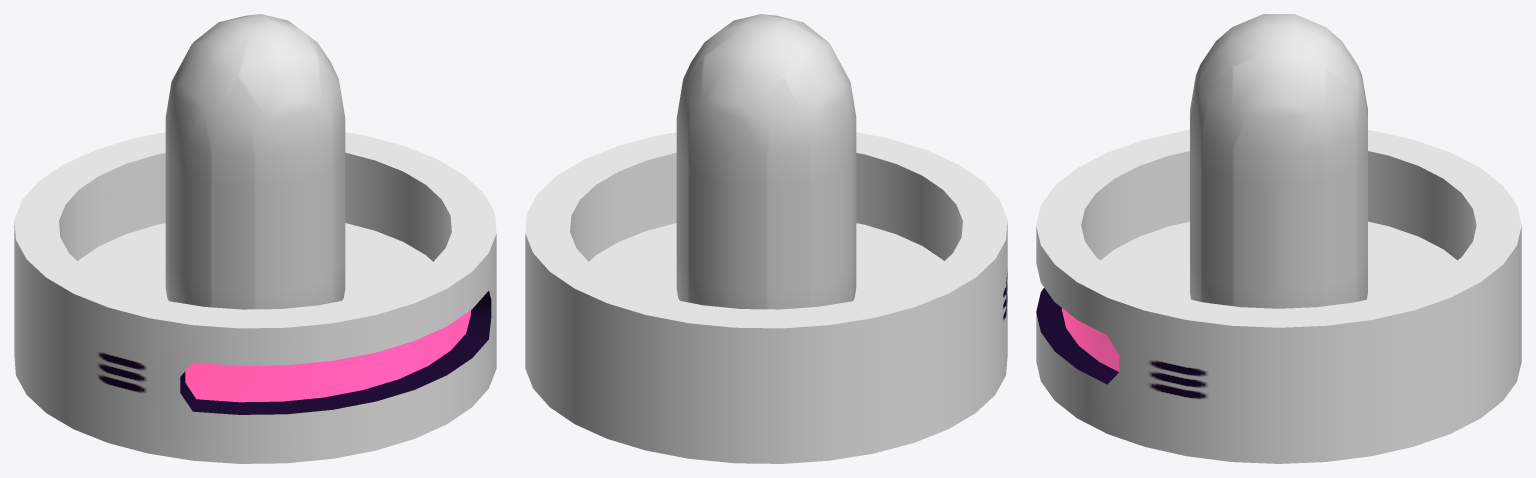
File: mallet.fbx
3 views of the same model, side by side, from view 1: azimuth 30°, elevation 25°; view 2: azimuth 150°, elevation 25°; view 3: azimuth 270°, elevation 25° (orthographic).
Visible parts, largest first — view 1: Cylinder, Mball, Bar; view 2: Cylinder, Mball; view 3: Cylinder, Mball, Bar.
Part boxes in pixels (x1=…): Cylinder: x1=14, y1=132, x2=496, y2=463; Mball: x1=165, y1=14, x2=345, y2=309; Bar: x1=185, y1=310, x2=470, y2=402; Cylinder: x1=525, y1=132, x2=1007, y2=463; Mball: x1=676, y1=14, x2=856, y2=309; Cylinder: x1=1036, y1=130, x2=1521, y2=463; Mball: x1=1190, y1=14, x2=1367, y2=308; Bar: x1=1062, y1=308, x2=1119, y2=371.
Size of the model in its own units: 3.19 by 2.47 by 3.19.
Materials: 2 (1 with a texture image).
